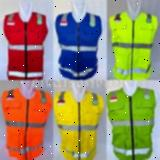Vest: (1, 88, 52, 160), (53, 91, 104, 160), (108, 87, 156, 160), (54, 12, 105, 78), (110, 13, 158, 80), (3, 11, 48, 80)
